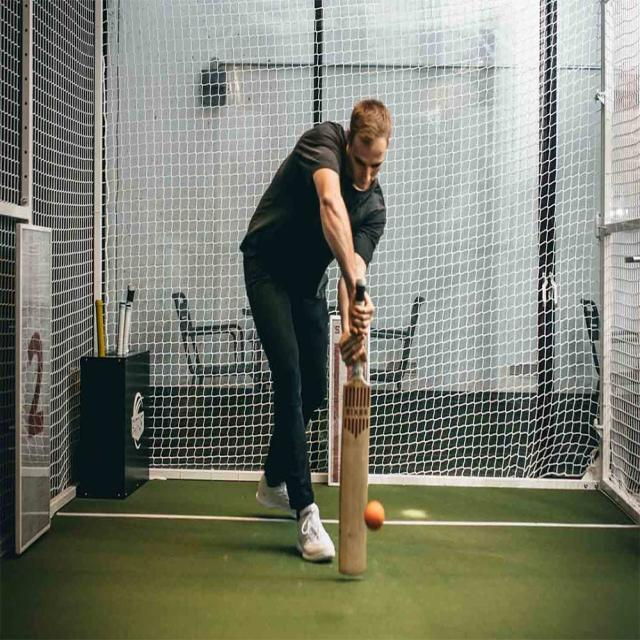bat: (335, 382, 374, 577)
toe: (337, 568, 370, 577)
